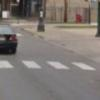cars: (0, 22, 18, 56)
